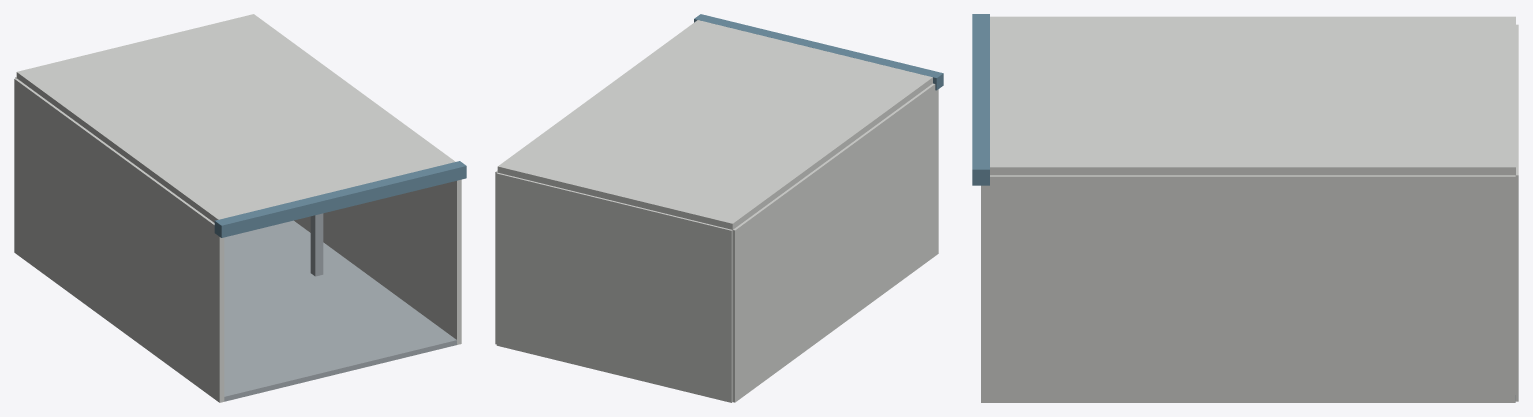
File: long-haul-trucking-and-truck-stop-tyre-service-bay-821ddb09__13978.glb
3 renders of one model, left to right at view 1: azimuth 30°, elevation 25°; view 2: azimuth 150°, elevation 25°; view 3: azimuth 270°, elevation 25°, orthographic. The views are drawn at different scales.
Visible parts, largest first — view 1: tyre-service-bay; view 2: tyre-service-bay; view 3: tyre-service-bay.
Part boxes in pixels (x1,y1,x2,y2): tyre-service-bay: [14, 14, 466, 402]; tyre-service-bay: [495, 14, 943, 402]; tyre-service-bay: [972, 14, 1518, 402].
Bounding box in the file's own units: 6.2 × 4.35 × 9.2.
